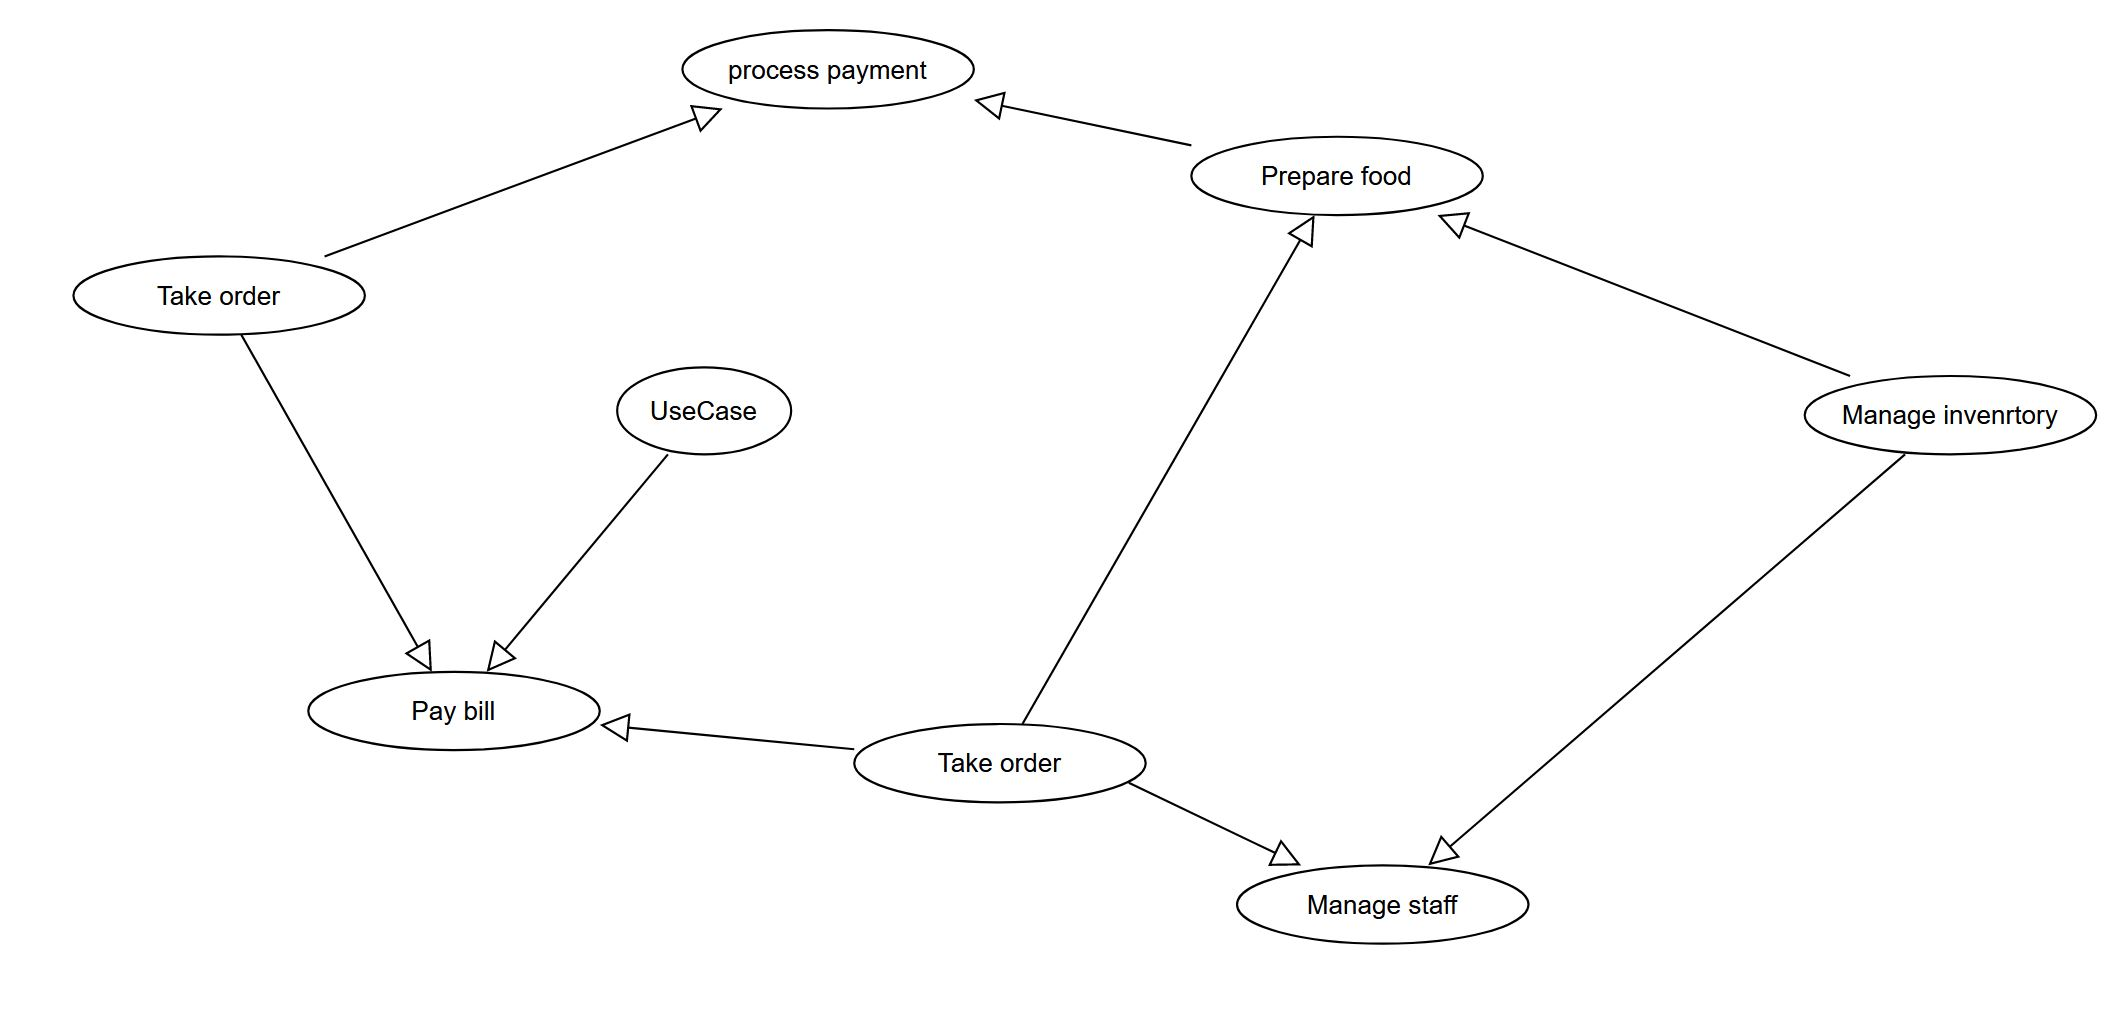generalization: (1427, 452, 1905, 867), (1024, 212, 1322, 727), (1438, 208, 1850, 373), (241, 331, 432, 670), (323, 104, 724, 256), (492, 451, 668, 672), (1127, 785, 1300, 869), (969, 91, 1190, 147), (601, 714, 858, 755)
text: (1842, 392, 2060, 436), (1236, 161, 1426, 193), (722, 57, 928, 85), (1297, 894, 1469, 921), (923, 750, 1074, 779), (154, 281, 284, 314), (643, 395, 766, 428), (398, 691, 500, 728)
use_case: (1804, 372, 2099, 455), (854, 720, 1146, 801), (682, 30, 977, 110), (1236, 863, 1529, 943), (1190, 138, 1487, 216), (76, 254, 367, 334), (306, 672, 603, 750), (611, 363, 793, 453)
